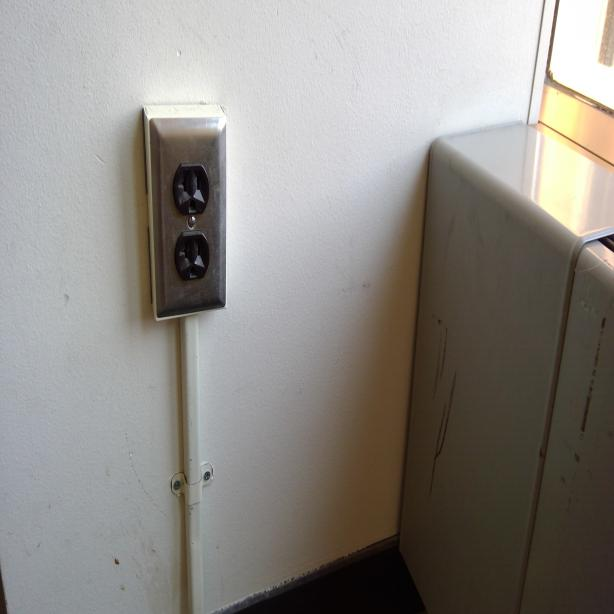typeb: (174, 158, 212, 217), (177, 234, 208, 283)
